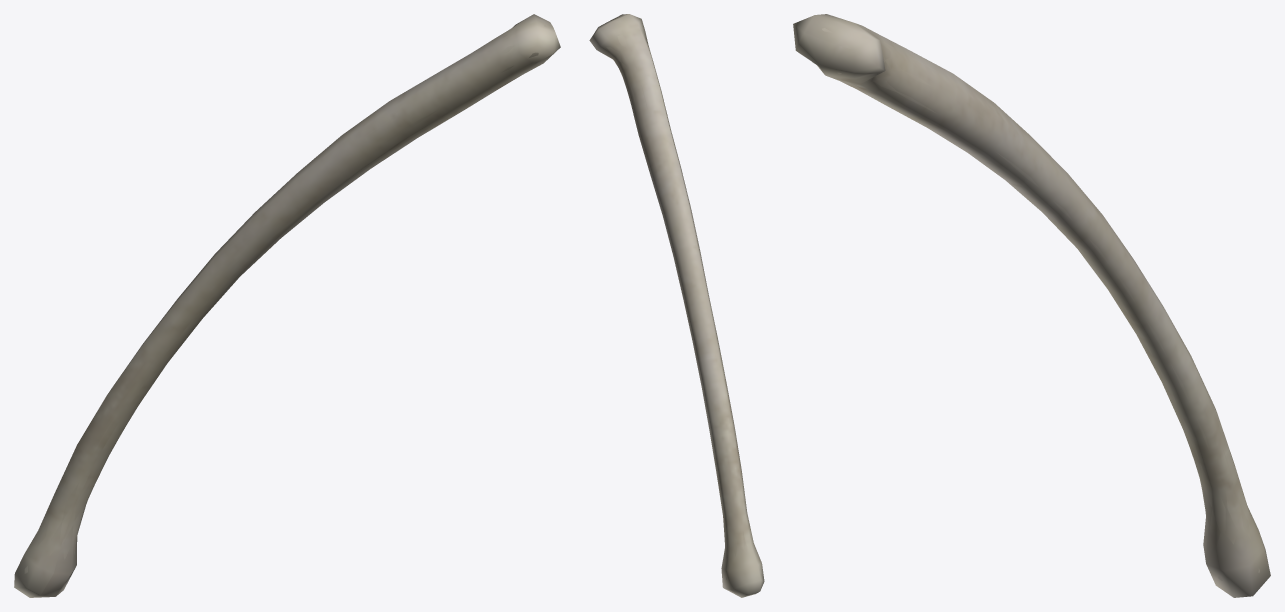
The model's file is Rib R10.fbx.
3 views of the same model, side by side, from view 1: azimuth 30°, elevation 25°; view 2: azimuth 150°, elevation 25°; view 3: azimuth 270°, elevation 25° (orthographic). The views are drawn at different scales.
Visible parts, largest first — view 1: Rib R10 low, Rib R10; view 2: Rib R10 low, Rib R10; view 3: Rib R10 low, Rib R10.
Part boxes in pixels (left/top/right/bottom): Rib R10 low: left=14, top=14, right=560, bottom=597; Rib R10: left=24, top=24, right=548, bottom=582; Rib R10 low: left=589, top=14, right=764, bottom=597; Rib R10: left=606, top=17, right=761, bottom=579; Rib R10 low: left=793, top=14, right=1270, bottom=597; Rib R10: left=812, top=28, right=1259, bottom=581.
Bounding box in the file's own units: 3.19 × 4.85 × 2.7.
1 material, 1 textured.
